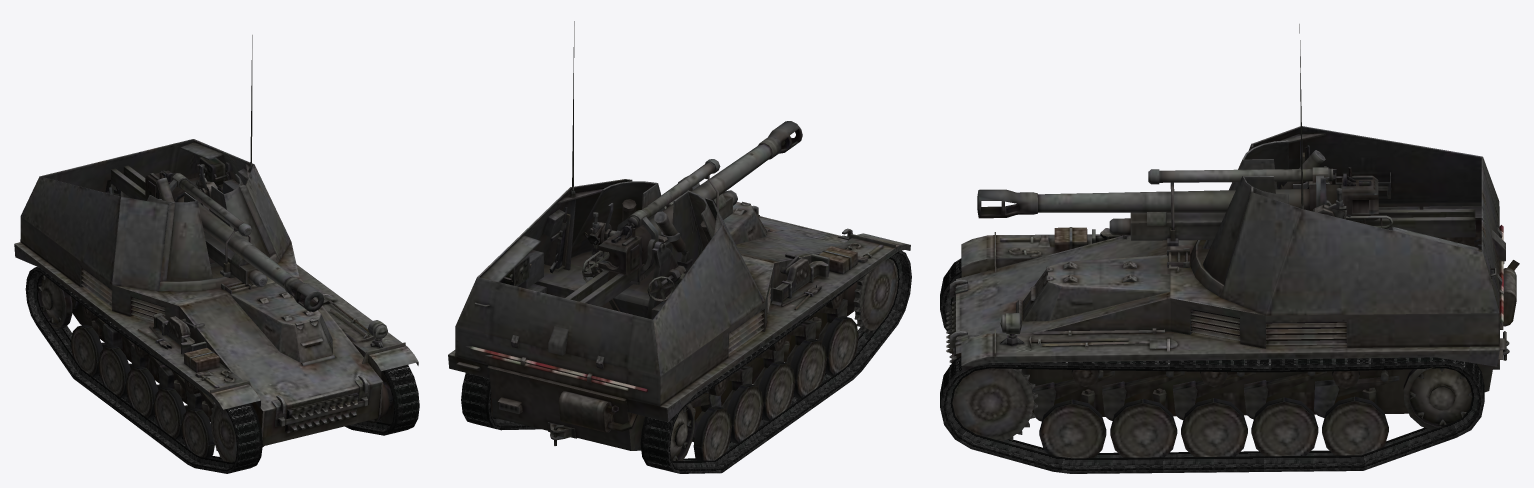
File: Wespe.FBX
3 views of the same model, side by side, from view 1: azimuth 30°, elevation 25°; view 2: azimuth 150°, elevation 25°; view 3: azimuth 270°, elevation 25° (orthographic). The views are drawn at different scales.
Parts seen in each view (by area): view 1: 黄蜂榴弹炮; view 2: 黄蜂榴弹炮; view 3: 黄蜂榴弹炮.
Part boxes in pixels (<box>): 黄蜂榴弹炮: <box>14,35,419,473</box>; 黄蜂榴弹炮: <box>448,21,911,473</box>; 黄蜂榴弹炮: <box>940,24,1519,473</box>.
Size of the model in its own units: 1.45 by 2.46 by 2.92.
Materials: 2 (2 with a texture image).
